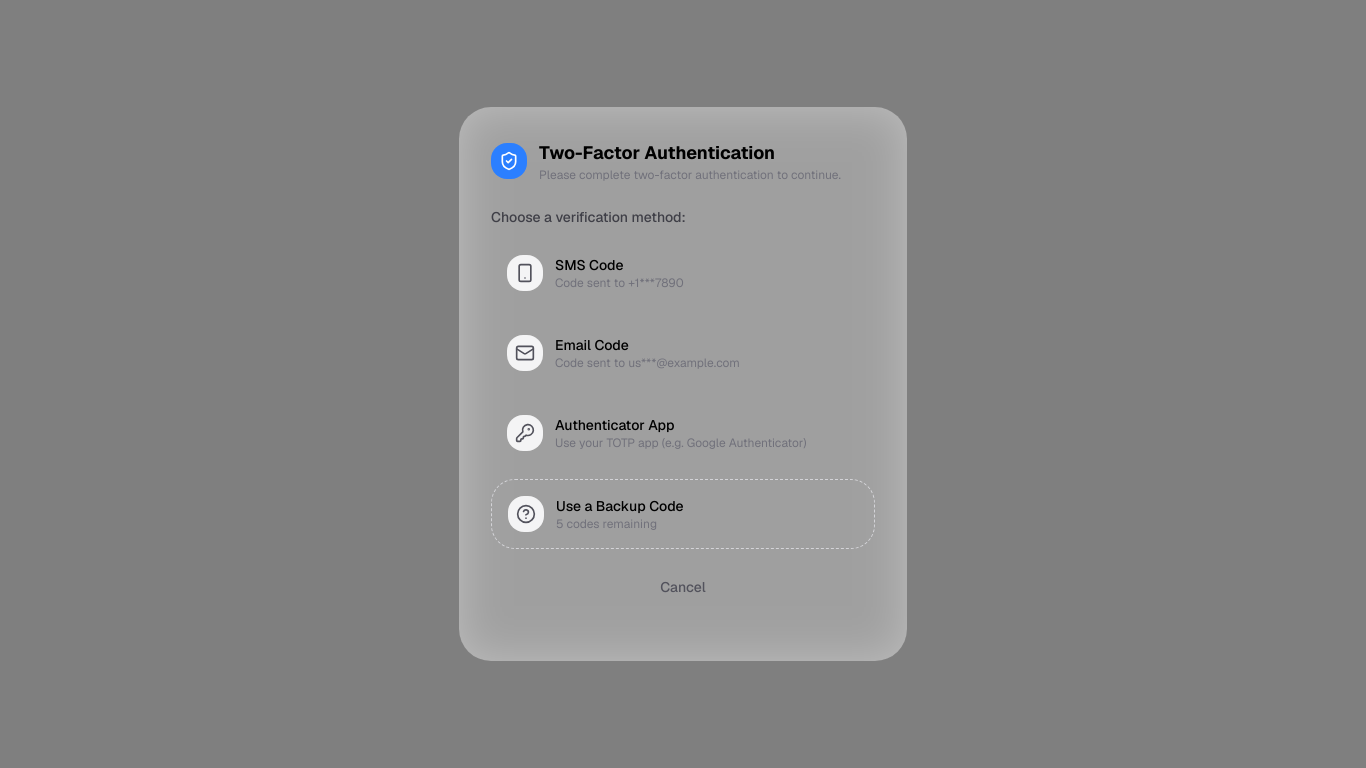
Scenario: TwoFAVerification › shows SMS target when selecting SMS
Click the text "SMS Code": click(589, 265) [555, 256, 624, 274]
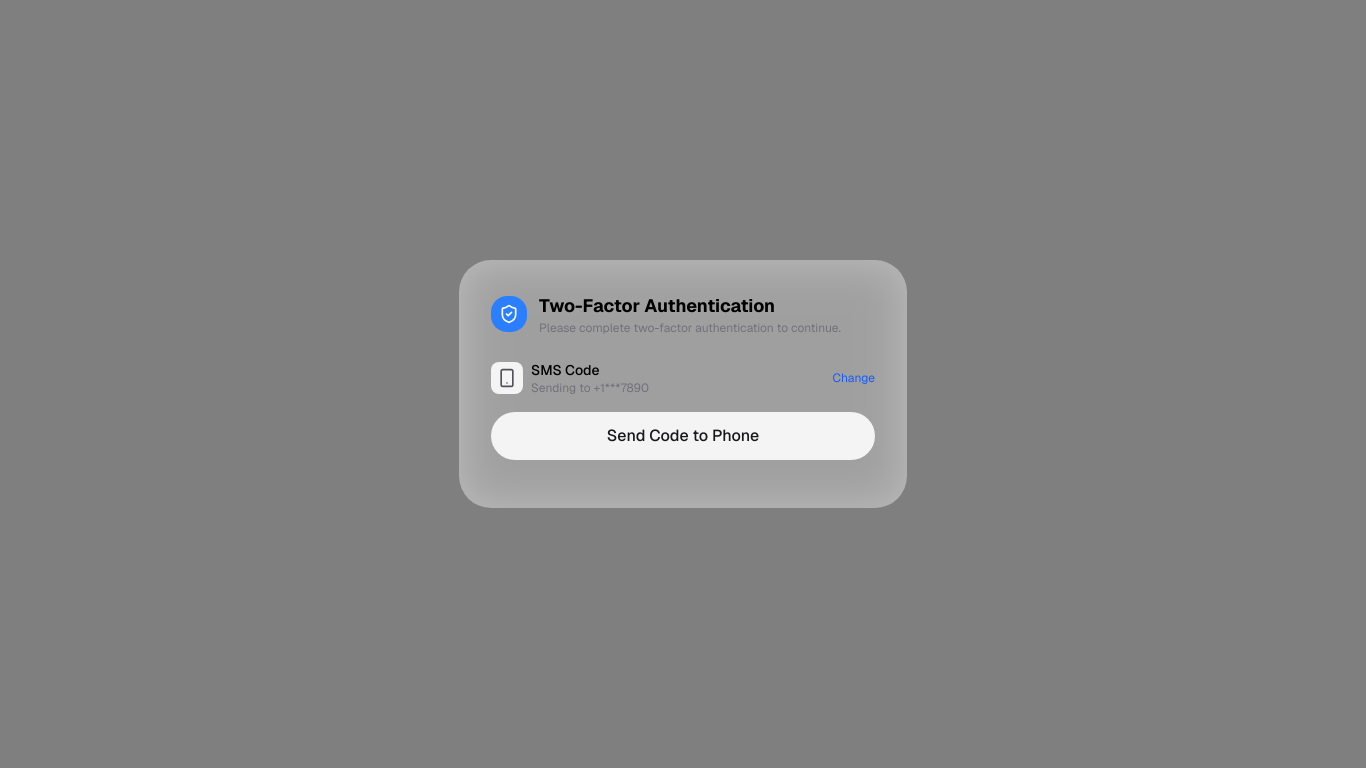
Now the text "Sending to +1***7890" is shown, box [531, 380, 649, 396]
